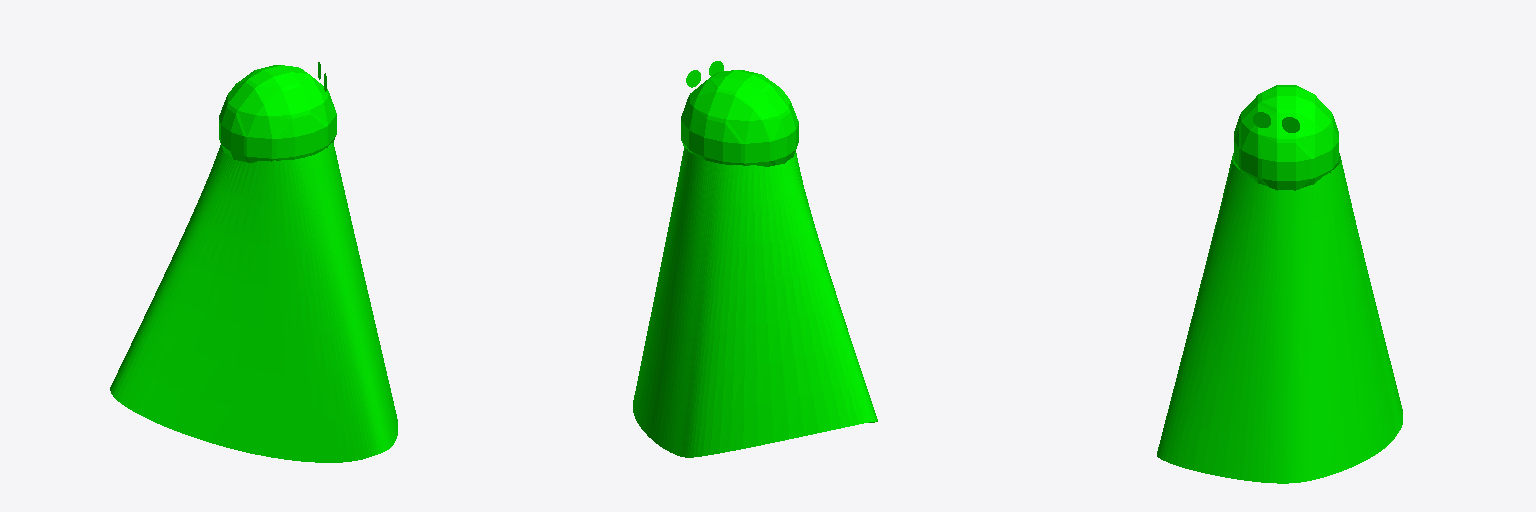
The model's file is ghost2_green.obj.
3 views of the same model, side by side, from view 1: azimuth 30°, elevation 25°; view 2: azimuth 150°, elevation 25°; view 3: azimuth 270°, elevation 25° (orthographic).
Visible parts, largest first — view 1: Surface, Mball; view 2: Surface, Mball; view 3: Surface, Mball.
Part boxes in pixels (x1,y1,x2,y2): Surface: (110, 142, 397, 462); Mball: (219, 65, 336, 162); Surface: (633, 148, 877, 457); Mball: (681, 70, 798, 166); Surface: (1157, 153, 1402, 483); Mball: (1234, 85, 1338, 190).
Size of the model in its own units: 5.36 by 7.2 by 4.55.